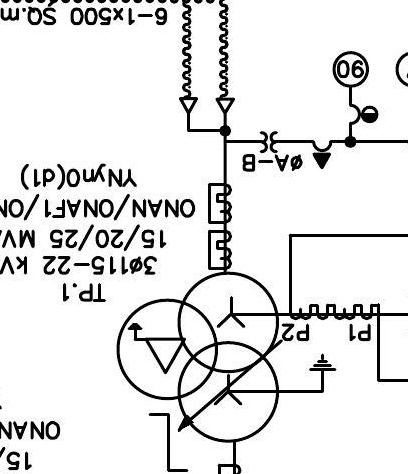11522_tx_ynyn0d1: (115, 270, 280, 444)
terminator_double: (178, 97, 236, 133)
